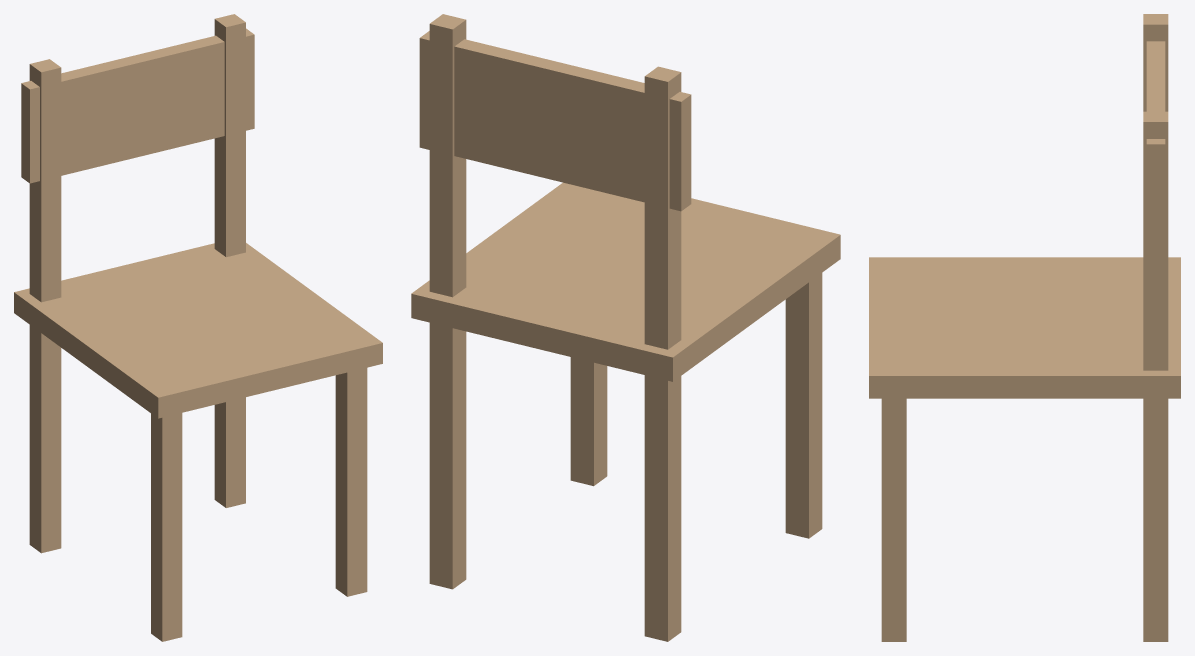
The model's file is dining-chair.glb.
3 renders of one model, left to right at view 1: azimuth 30°, elevation 25°; view 2: azimuth 150°, elevation 25°; view 3: azimuth 270°, elevation 25°, orthographic. The views are drawn at different scales.
Visible parts, largest first — view 1: Seat, Leg (×4), Backrest, Post (×2); view 2: Seat, Leg (×4), Backrest, Post (×2); view 3: Seat, Leg (×2), Post (×2), Backrest.
Part boxes in pixels (box(x1,y1,x2,y2)): Seat: box(14, 243, 382, 418); Leg (×4): box(29, 325, 367, 641); Backrest: box(21, 28, 254, 183); Post (×2): box(29, 14, 245, 302); Seat: box(411, 182, 840, 381); Leg (×4): box(429, 273, 822, 641); Backrest: box(419, 31, 691, 211); Post (×2): box(429, 14, 681, 349); Seat: box(869, 257, 1180, 398); Leg (×2): box(881, 398, 1168, 641); Post (×2): box(1143, 14, 1168, 370); Backrest: box(1146, 41, 1165, 245).
Size of the model in its own units: 0.45 by 0.92 by 0.5.
